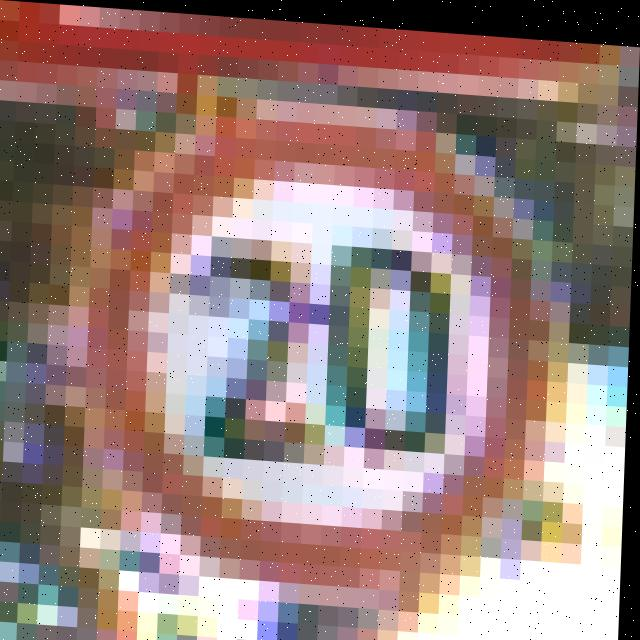speed_limit_20: (91, 117, 566, 629)
